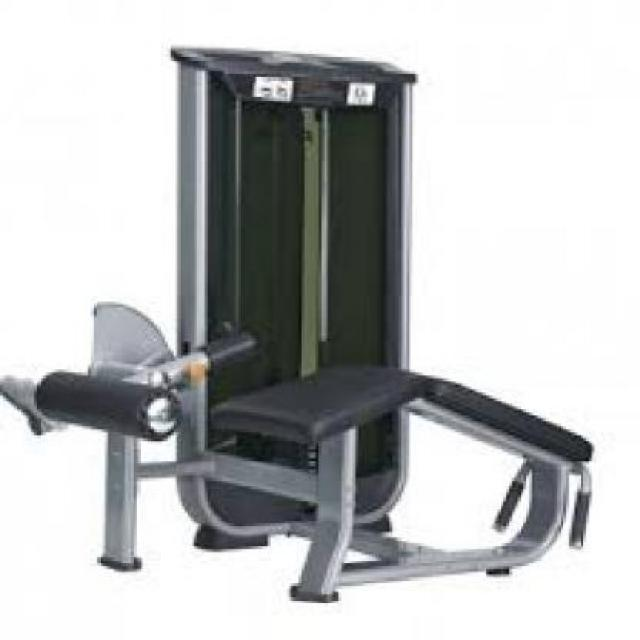reg curl machine: (0, 39, 600, 603)
